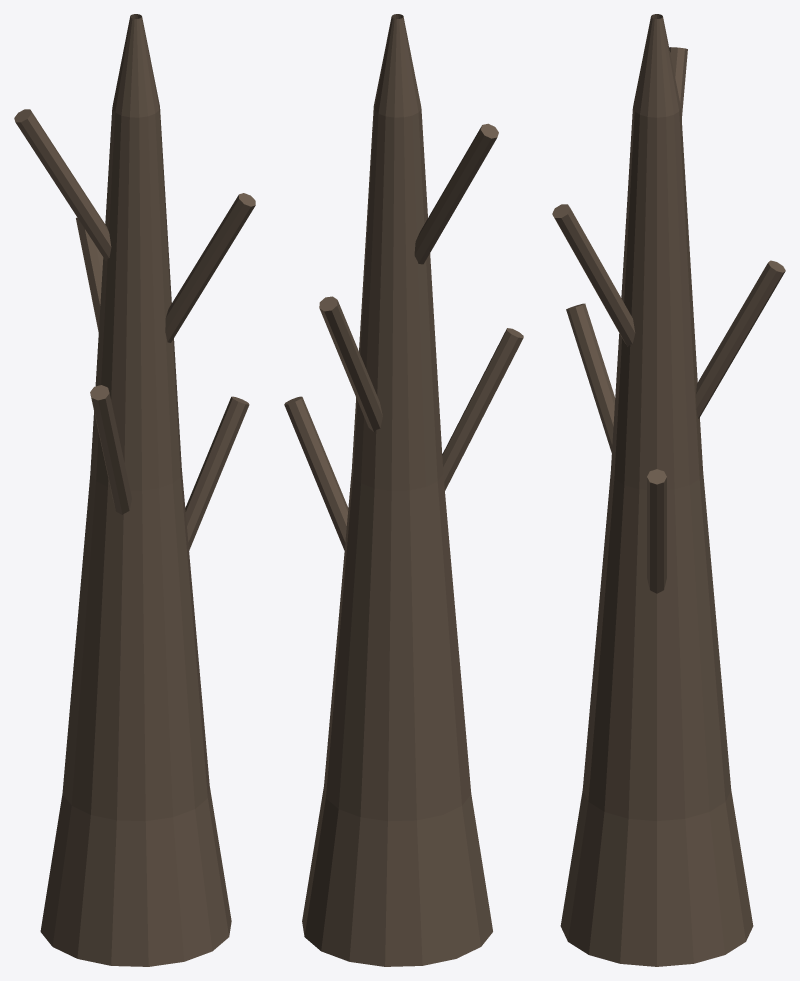
Rendered from P034-blockout-v1.glb.
The picture shows the model from 3 angles, left to right: view 1: azimuth 30°, elevation 25°; view 2: azimuth 150°, elevation 25°; view 3: azimuth 270°, elevation 25°; orthographic projection.
Visible parts, largest first — view 1: 焦黑樹幹, 分枝 (×5); view 2: 焦黑樹幹, 分枝 (×4); view 3: 焦黑樹幹, 分枝 (×5).
Boxes of the visible parts, x1,y1,x2,y2 form: 焦黑樹幹: (40, 14, 231, 966); 分枝 (×5): (14, 109, 255, 550); 焦黑樹幹: (302, 14, 492, 966); 分枝 (×4): (284, 123, 523, 550); 焦黑樹幹: (560, 14, 753, 966); 分枝 (×5): (552, 47, 785, 593).
Size of the model in its own units: 1.41 by 5.5 by 1.28.
